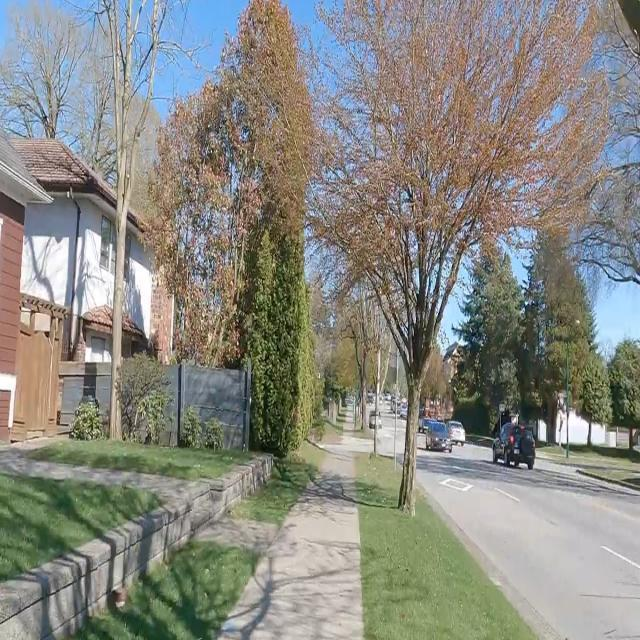Automobile: (493, 420, 534, 467), (425, 420, 449, 451), (449, 421, 465, 446)
Road: (420, 447, 639, 639)
Sidewalk: (221, 455, 363, 639)
